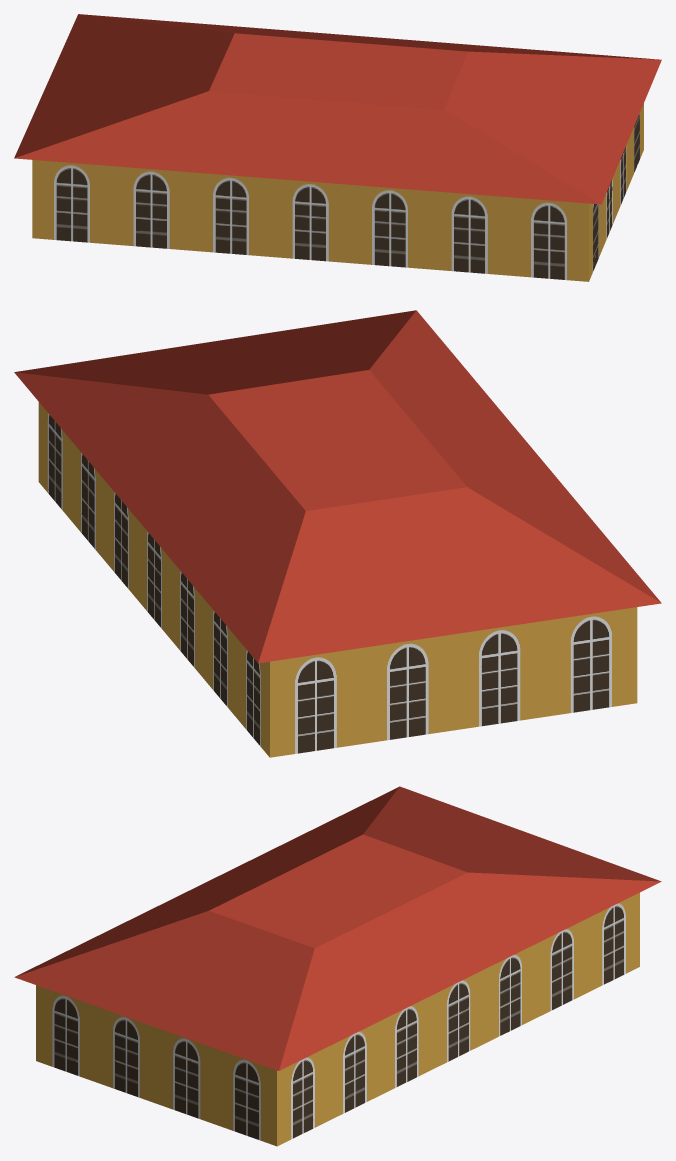
Rendered from ckiosk_a.glb.
3 views of the same model, one above another, from view 1: azimuth 30°, elevation 25°; view 2: azimuth 150°, elevation 25°; view 3: azimuth 270°, elevation 25° (orthographic). The views are drawn at different scales.
Parts seen in each view (by area): view 1: ckiosk_a_lod0; view 2: ckiosk_a_lod0; view 3: ckiosk_a_lod0.
Part boxes in pixels (<box>): ckiosk_a_lod0: <box>14,14,661,281</box>; ckiosk_a_lod0: <box>14,310,661,757</box>; ckiosk_a_lod0: <box>14,786,661,1146</box>.
Size of what is drawn, in the model's own units: 25.99 by 5.2 by 25.
3 materials, 1 textured.
